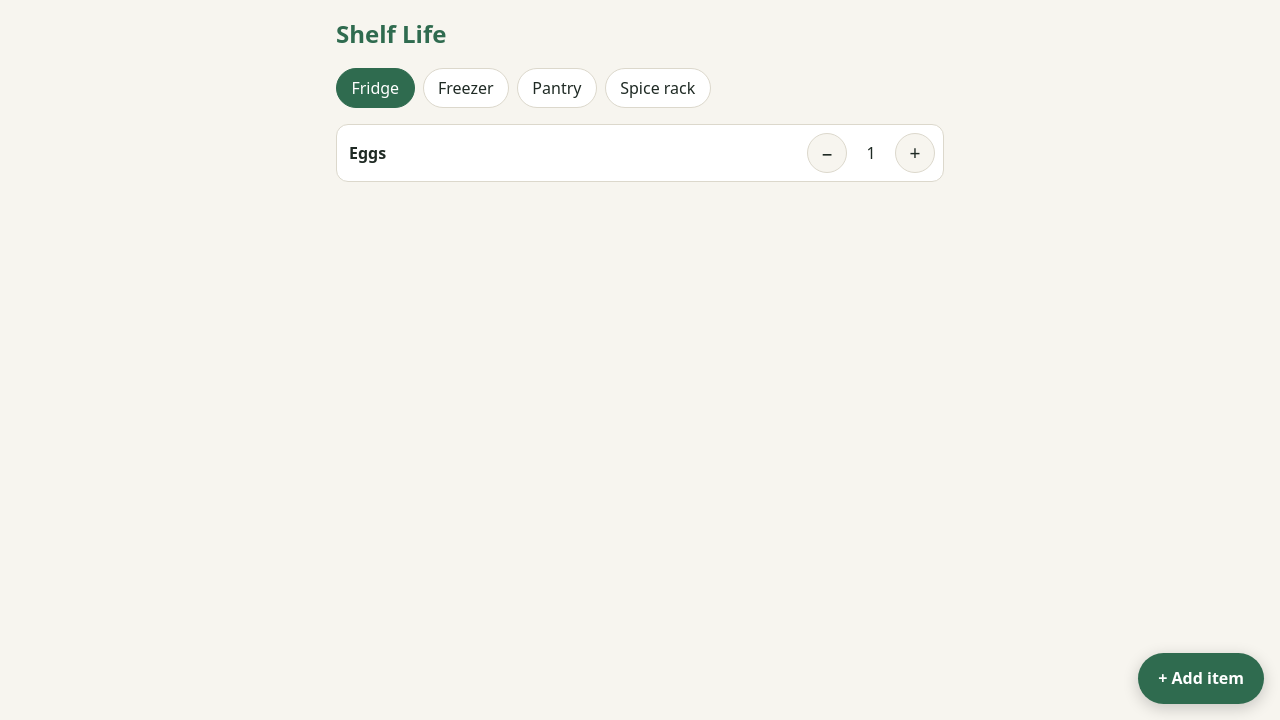
Test: Inventory screens › steps the quantity and asks "used up?" at zero (Req 1.5)
Step 1. Click the button named "One more Eggs" → (915, 153), box [895,133,935,173]
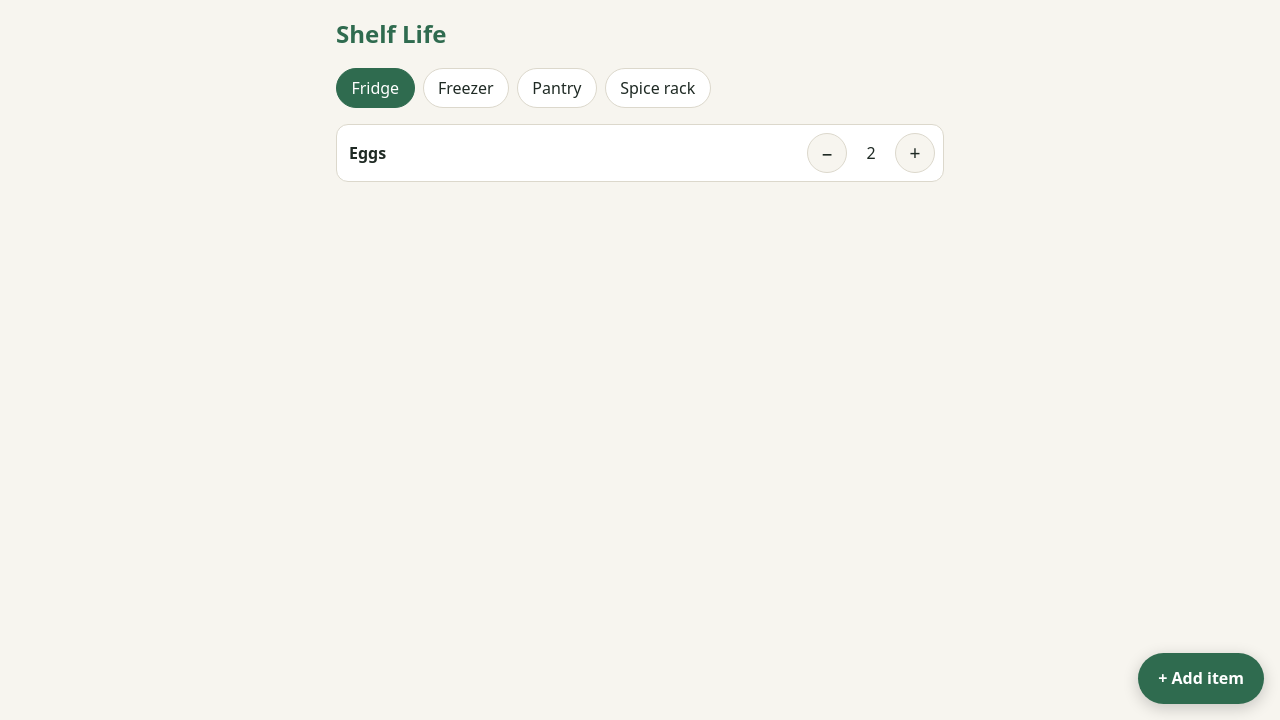
Expected: the text "2" is shown, [866,142,876,164]
Step 2. Click the button named "One less Eggs" → (827, 153), box [807,133,847,173]
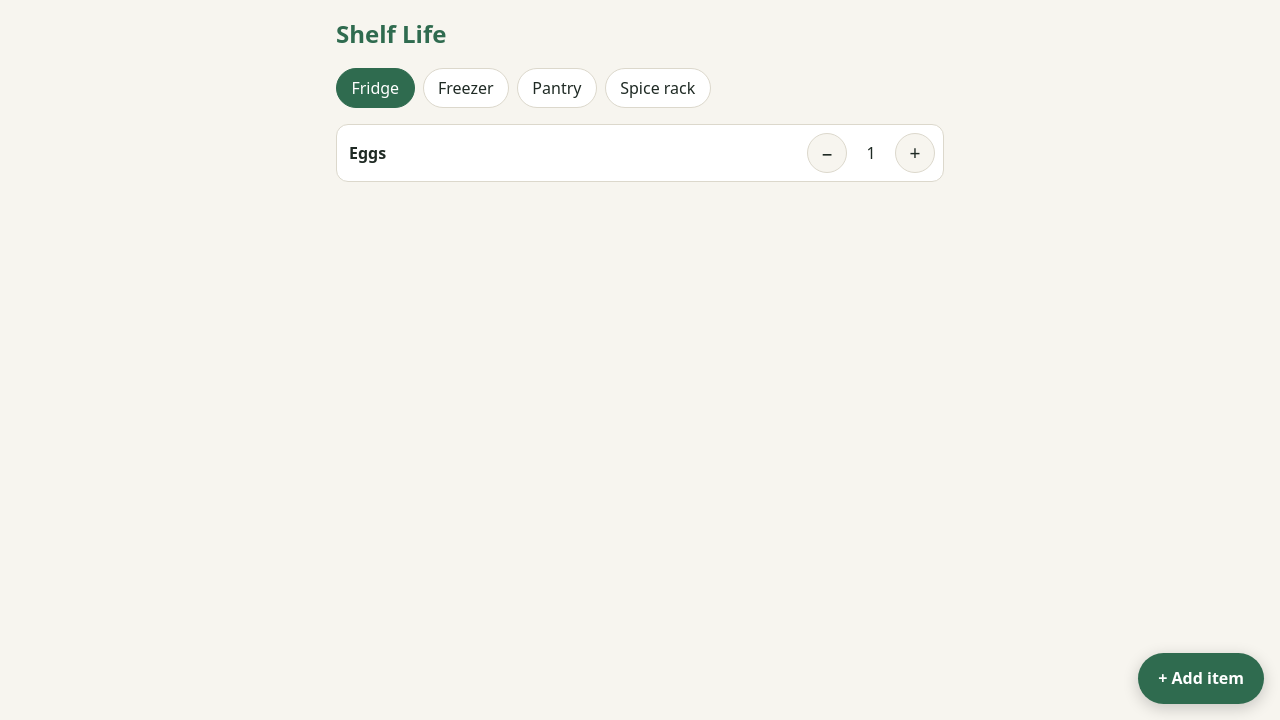
Expected: the text "1" is shown, [866,142,876,164]
Step 3. Click the button named "One less Eggs" → (827, 153), box [807,133,847,173]
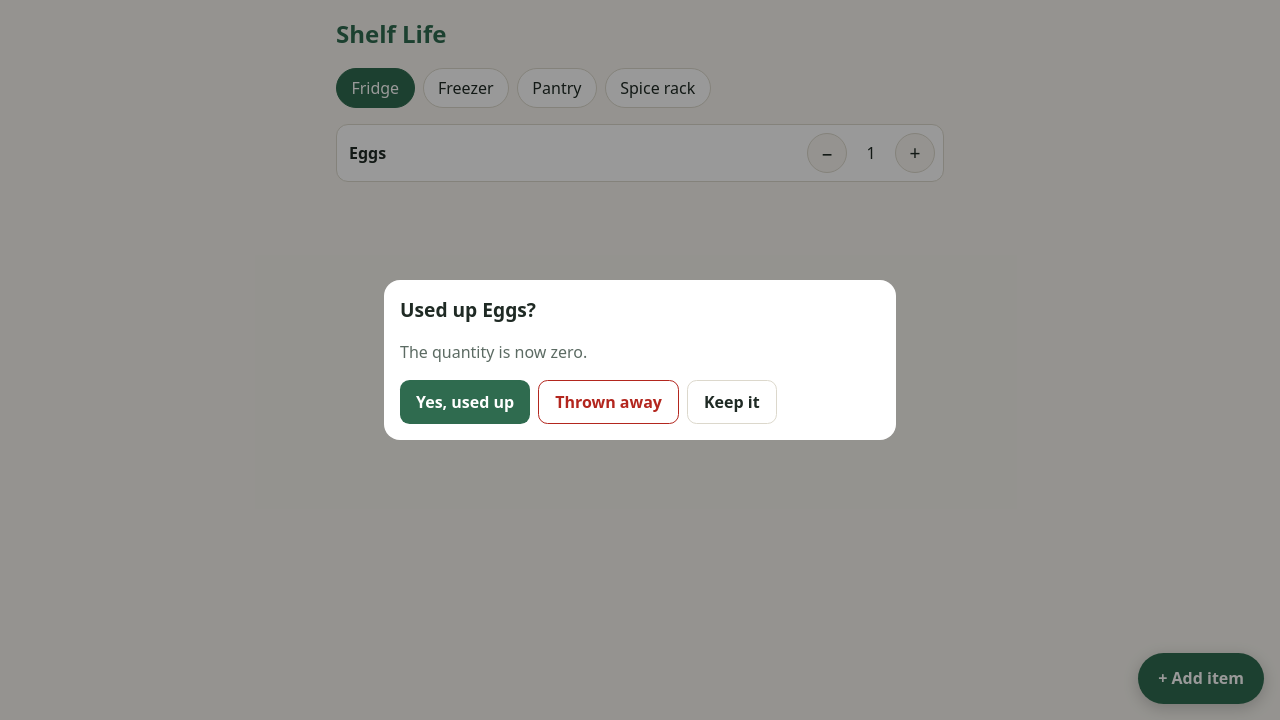
Step 4. Click the button "Keep it" → (732, 402), box [687,380,777,424]
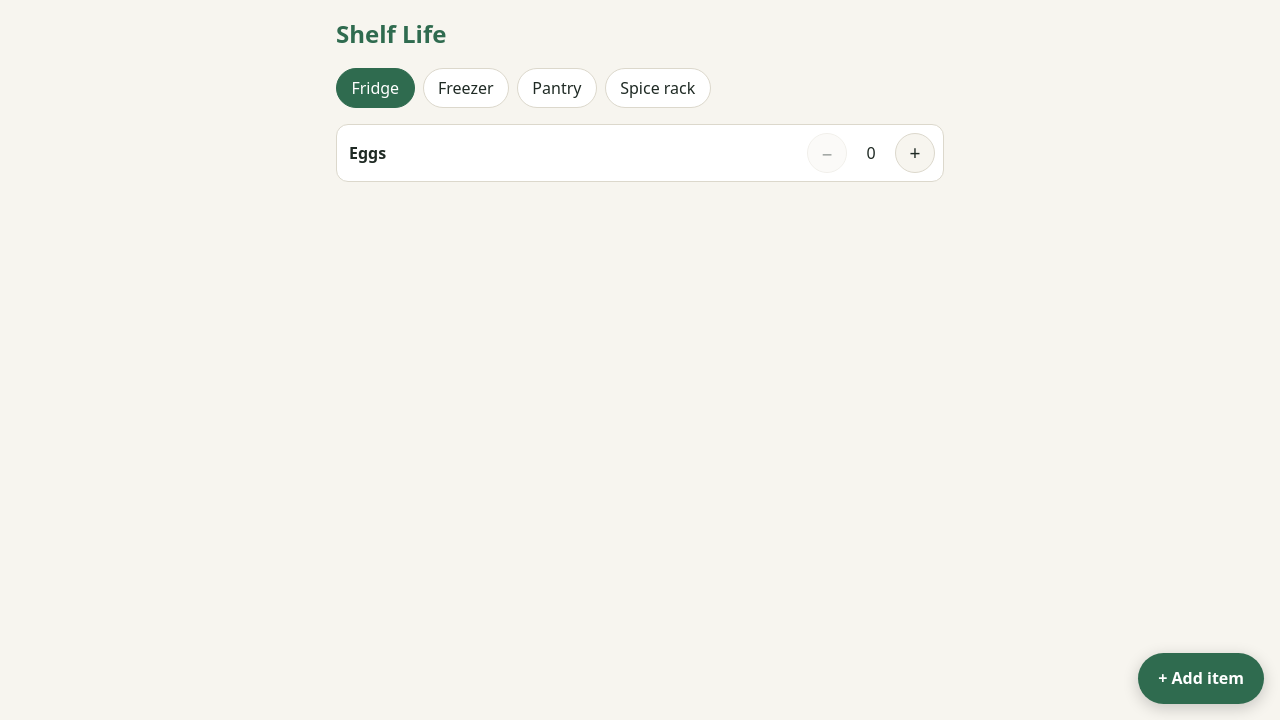
Expected: the dialog is gone
